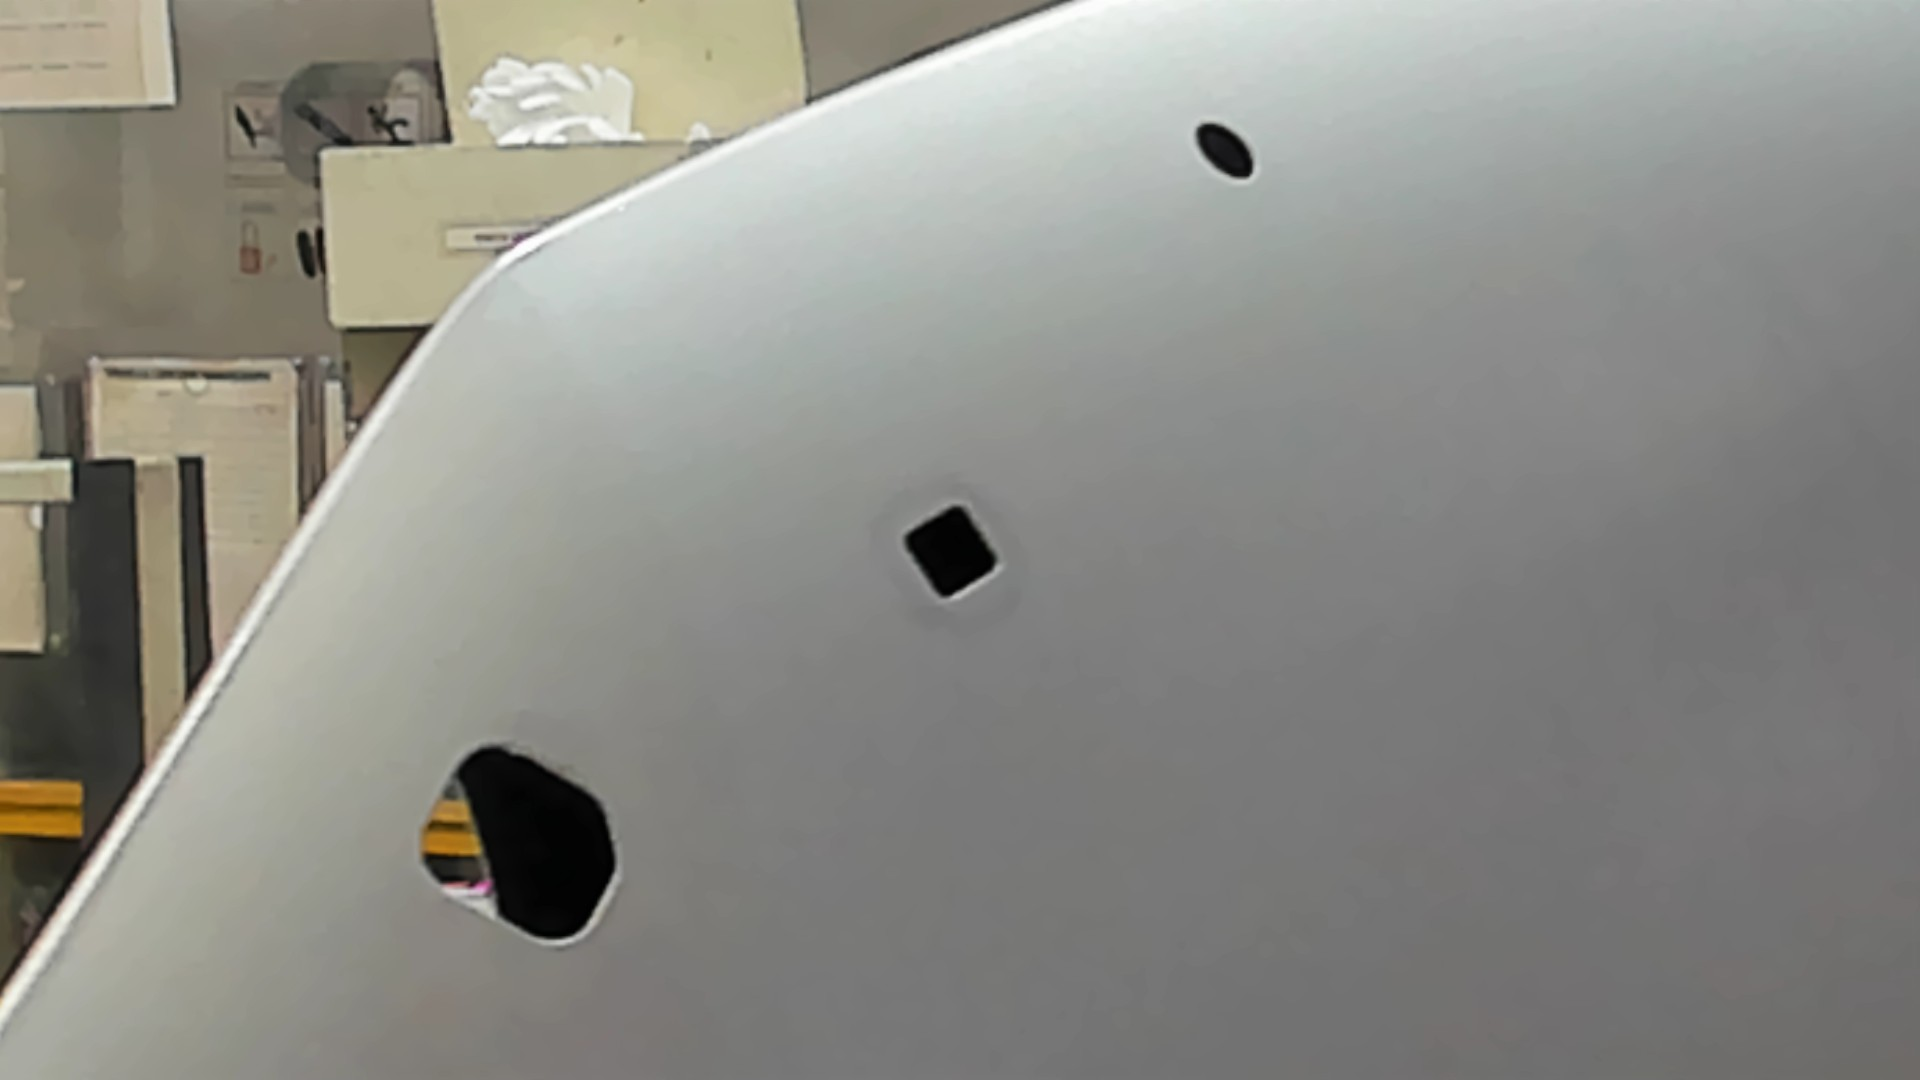Agujero: (899, 501, 1004, 601), (1192, 120, 1251, 179)
Agujerote: (419, 740, 622, 949)
